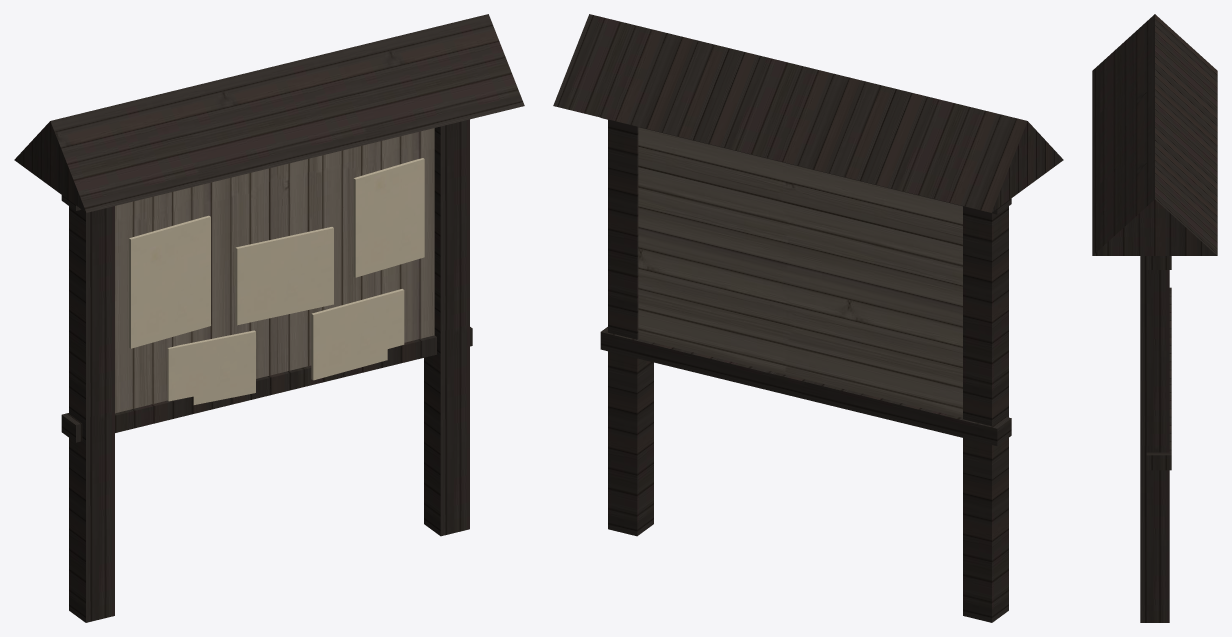
File: notice_board_01.glb
The picture shows the model from 3 angles, left to right: view 1: azimuth 30°, elevation 25°; view 2: azimuth 150°, elevation 25°; view 3: azimuth 270°, elevation 25°; orthographic projection. The views are drawn at different scales.
Parts seen in each view (by area): view 1: notice_board_01; view 2: notice_board_01; view 3: notice_board_01.
Boxes of the visible parts, <box> form: notice_board_01: <box>14,14,524,622</box>; notice_board_01: <box>553,14,1063,622</box>; notice_board_01: <box>1092,14,1217,622</box>.
Bounding box in the file's own units: 2.1 × 2.3 × 0.6.
Materials: 3 (3 with a texture image).
